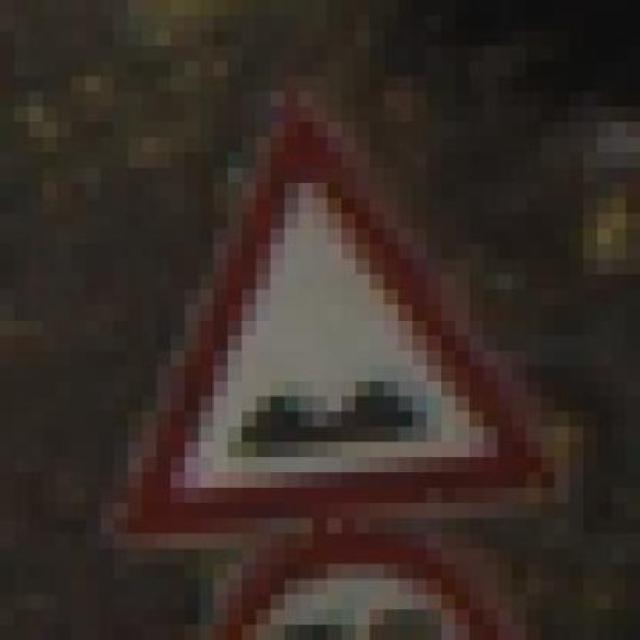Uneven Road: (71, 91, 569, 548)
